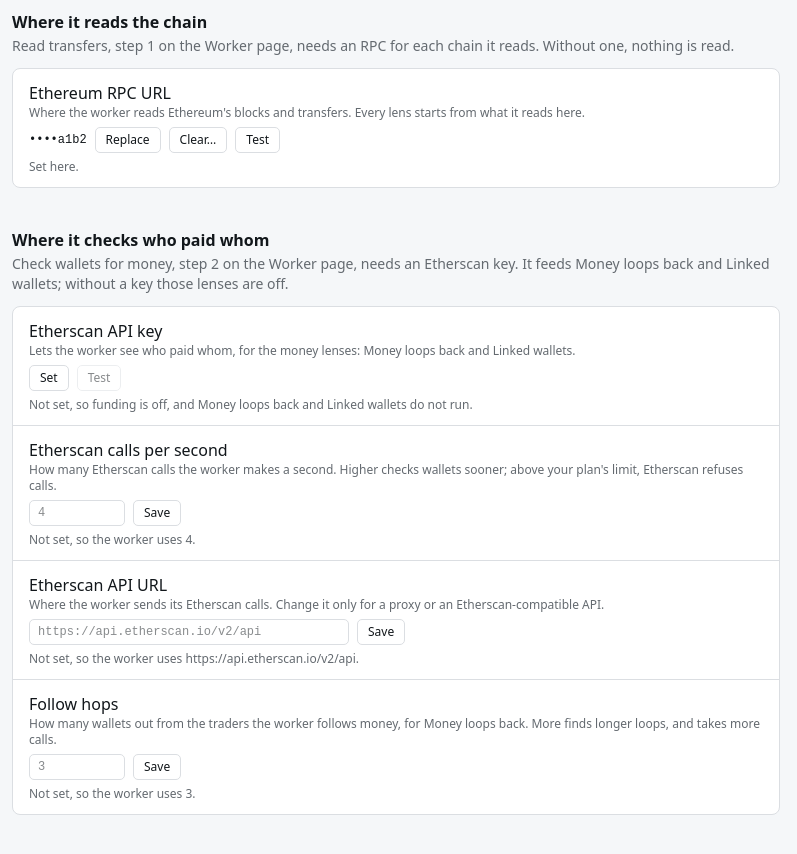
Scenario: Settings, Test › asks for an RPC check, polls, and shows each part when it finishes
The width and height of the screenshot is (797, 854).
Click the button "Test" in the row of "••••a1b2": (258, 140) 235,127 -> 280,153
Wait 1000 ms
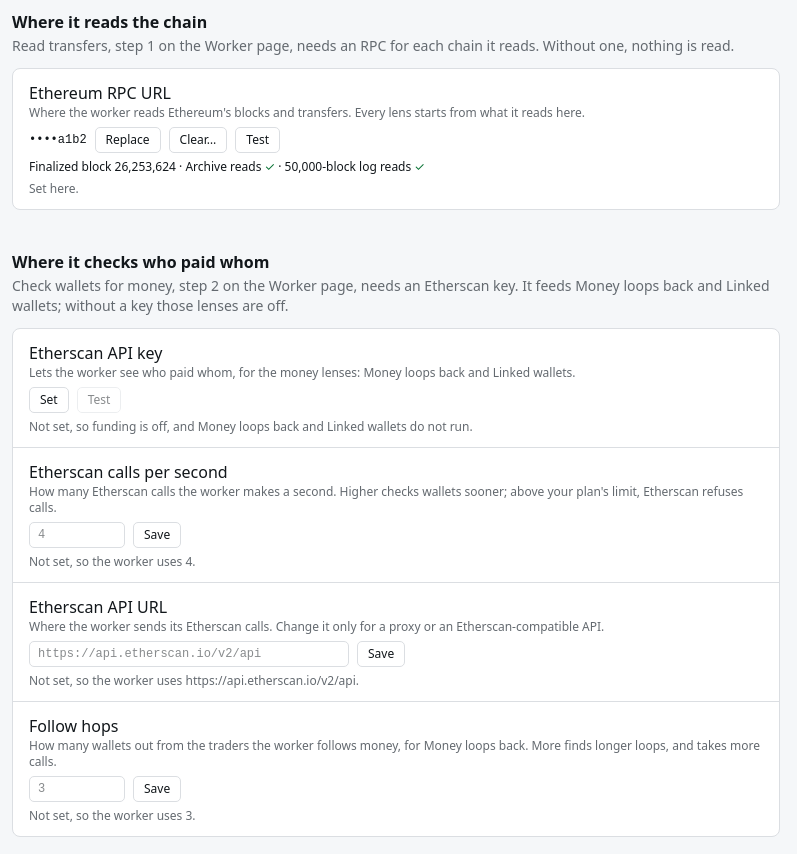
Now the message "Finalized block 26,253,624 · Archive reads ✓ · 50,000-block log reads ✓" is shown, box 29,158 -> 425,175
